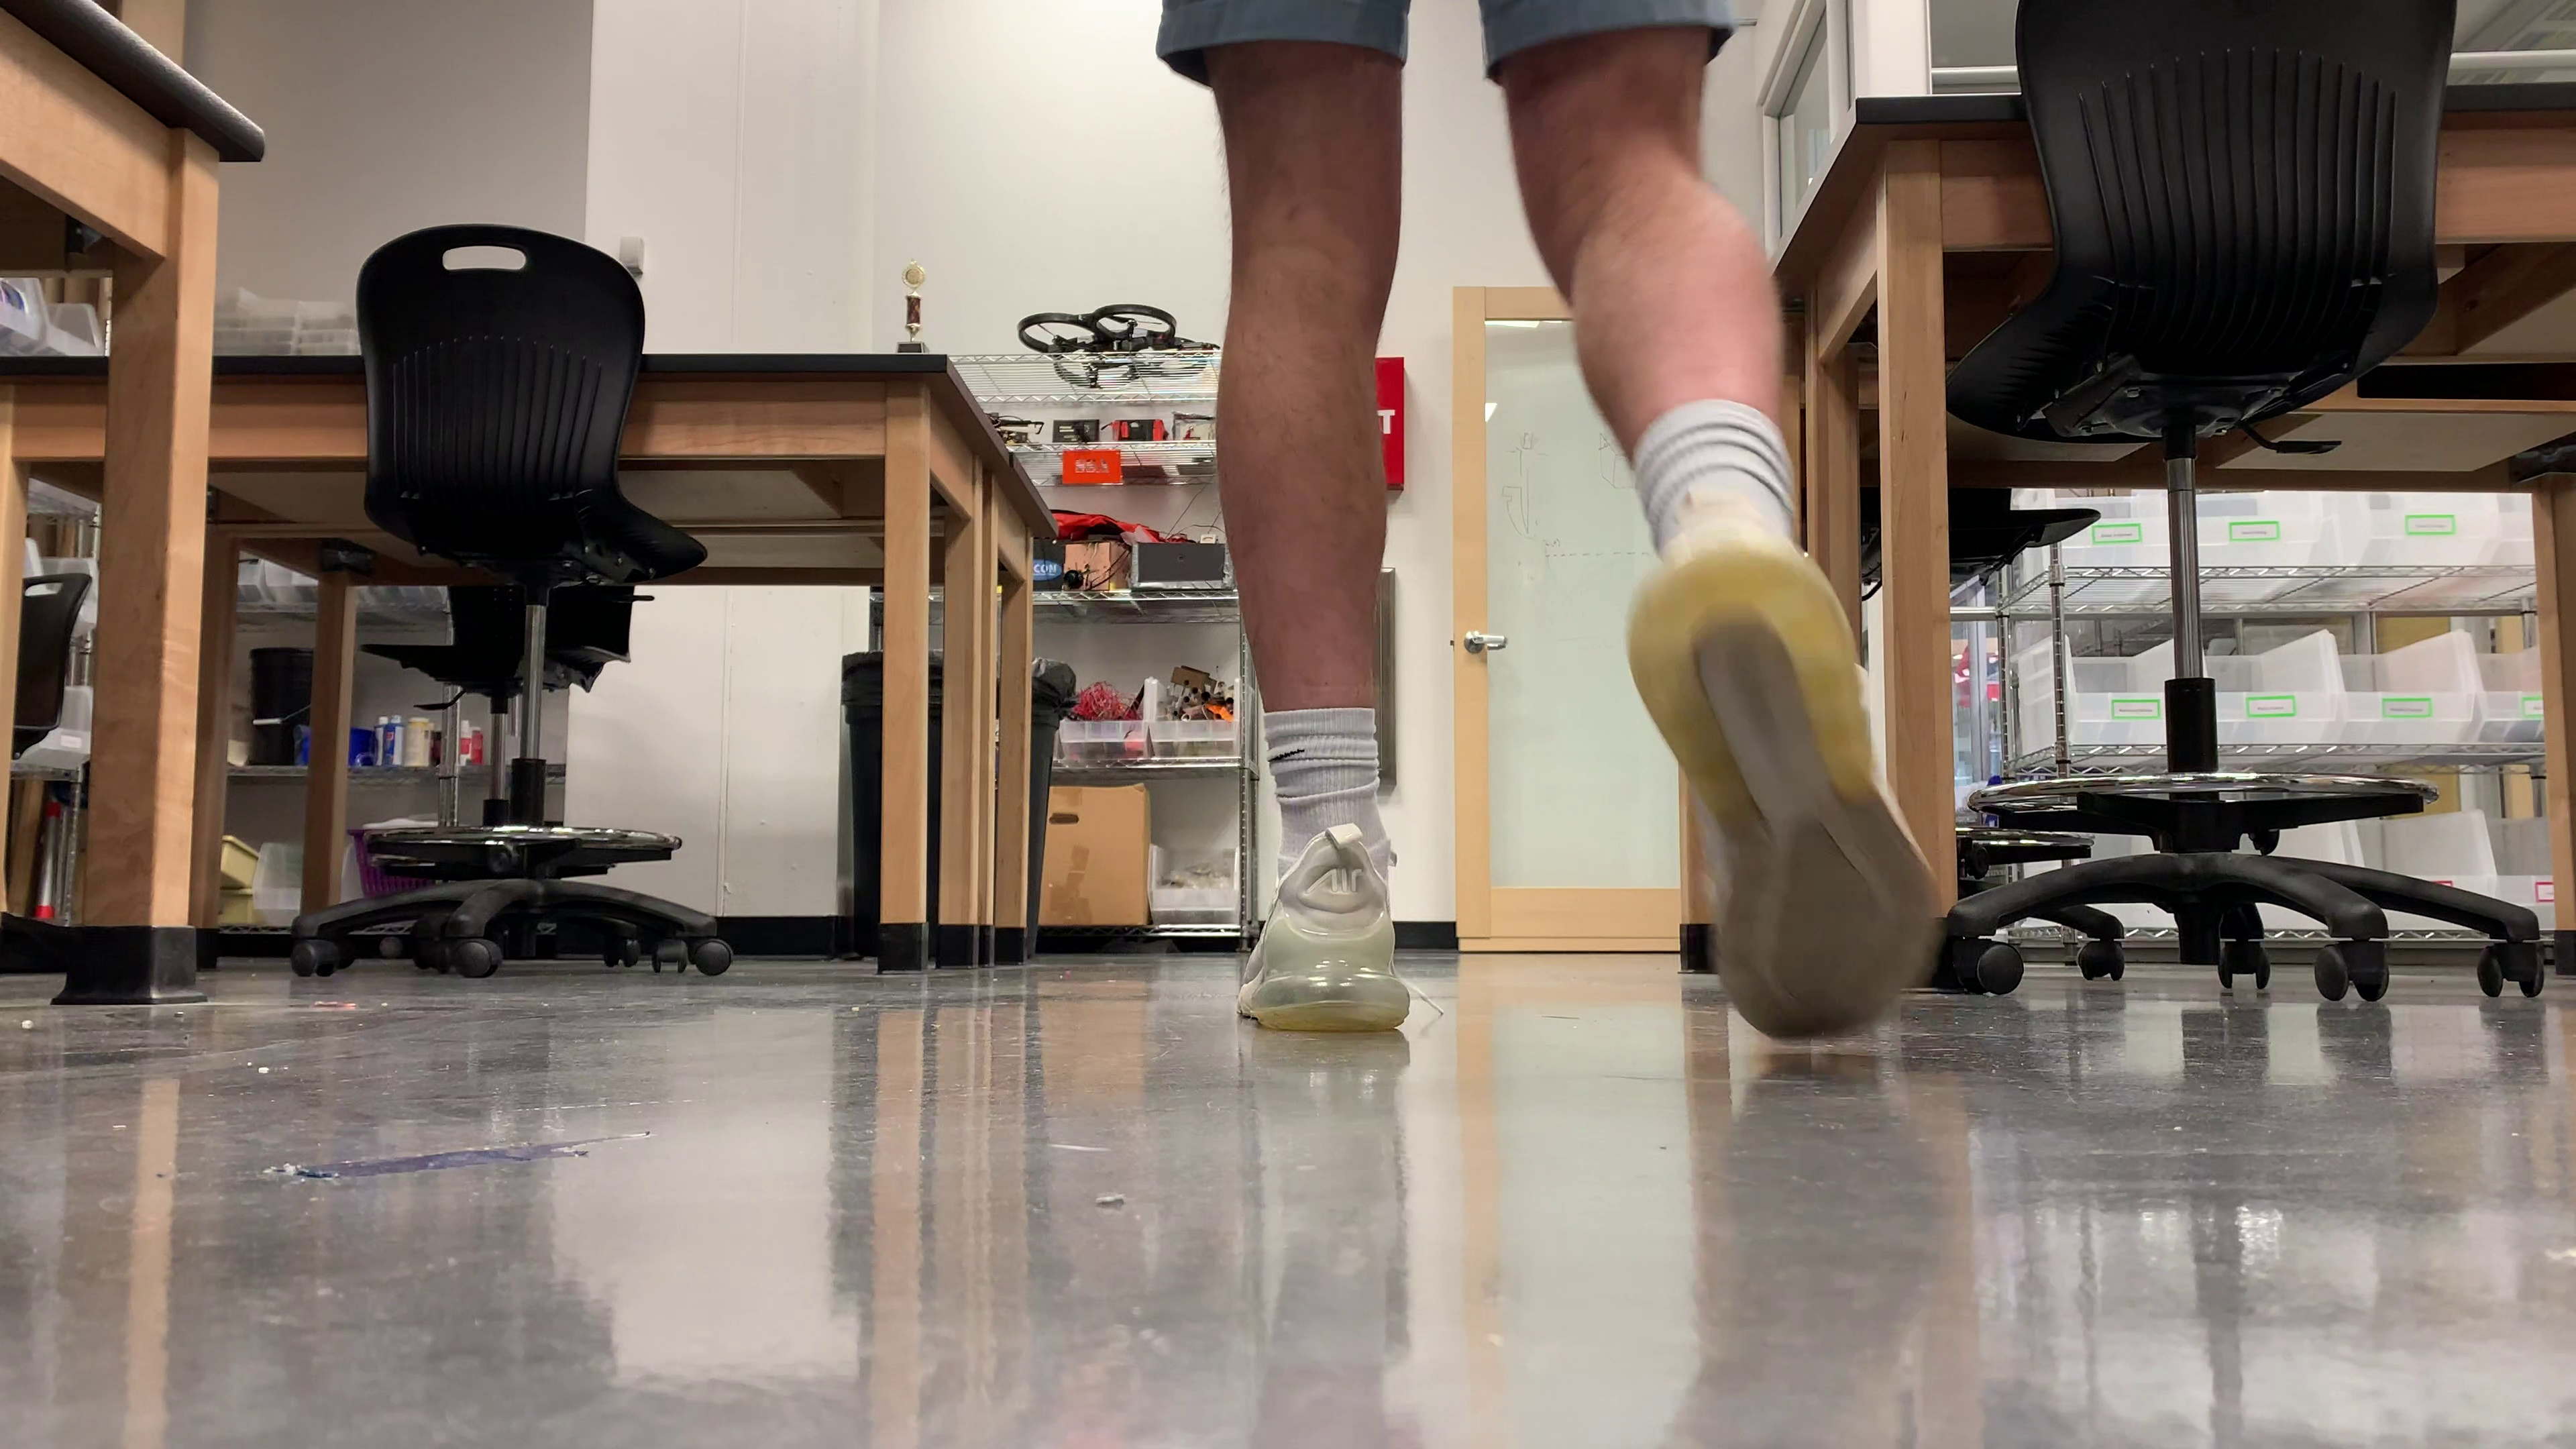shoe: (1621, 487, 1934, 1040), (1240, 826, 1407, 1033)
